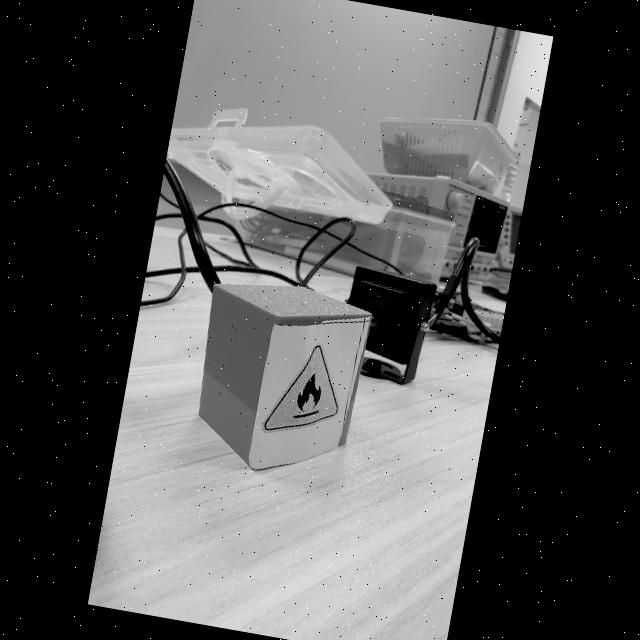Fire: (263, 345, 337, 430)
